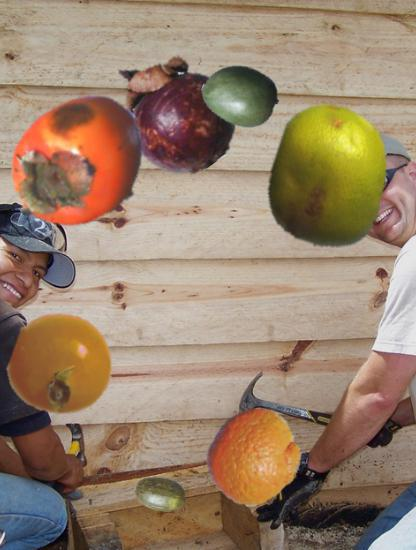Kaki: (3, 89, 152, 238)
Mandarine: (205, 408, 304, 507)
Mango: (202, 57, 279, 134)
Mangostan: (109, 44, 242, 177)
Melon: (134, 468, 187, 521)
Physalis: (9, 312, 113, 416)
Pomelo: (257, 104, 403, 250)
